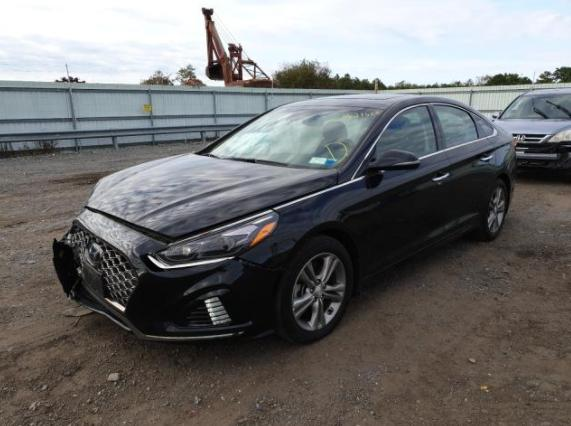Back-door: (428, 103, 496, 234)
Back-wheel: (482, 180, 508, 241)
Back-window: (435, 106, 478, 148), (478, 118, 494, 136)
Fender: (239, 176, 373, 278)
Front-bumper: (51, 208, 281, 344)
Front-door: (362, 103, 455, 272)
Front-wheel: (275, 236, 354, 344)
Front-window: (376, 107, 436, 159)
Grille: (71, 227, 137, 306)
Headlight: (153, 208, 280, 266)
Hood: (87, 152, 338, 239)
Mirror: (363, 150, 419, 174)
Quarter-panel: (487, 130, 517, 205)
Rocker-panel: (358, 220, 481, 289)
Roof: (283, 93, 448, 111)
Windshield: (195, 104, 384, 169)
